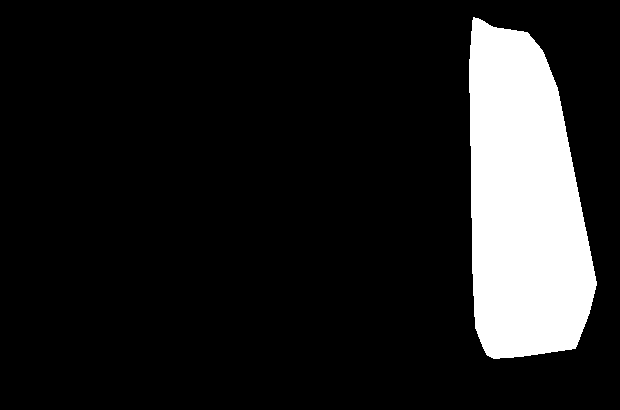type5: (466, 11, 600, 362)
